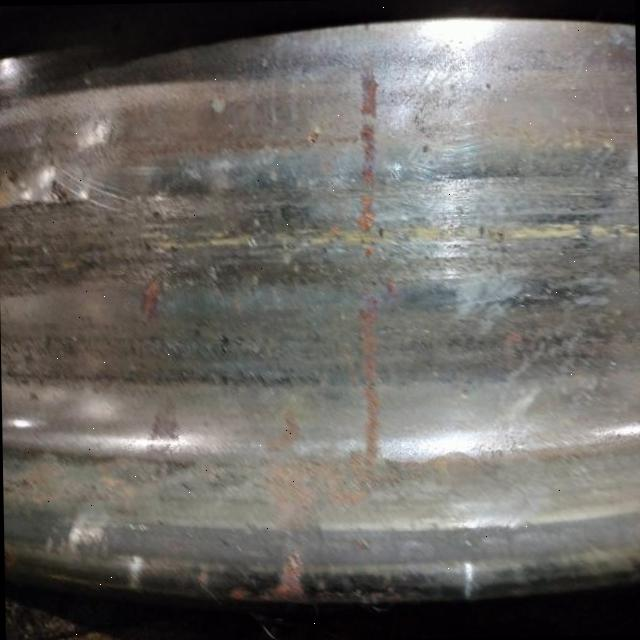Contact_Fatigue_Cracks: (43, 356, 237, 394)
Peeling: (139, 272, 165, 318)
